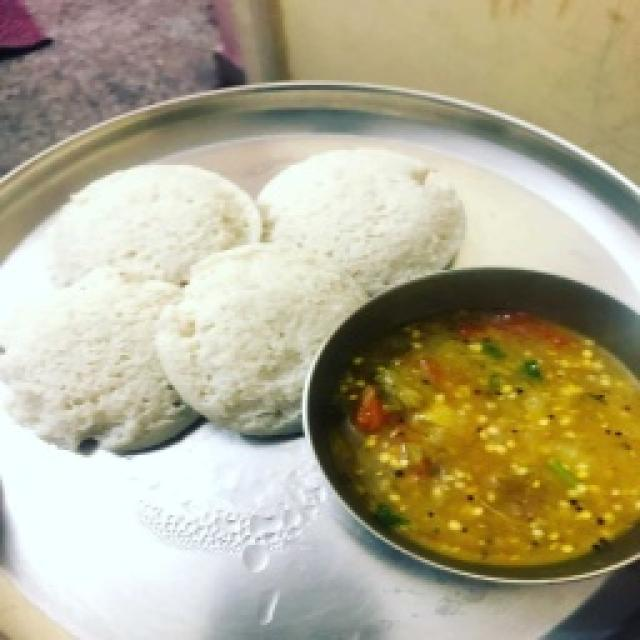idli: (4, 132, 419, 397)
